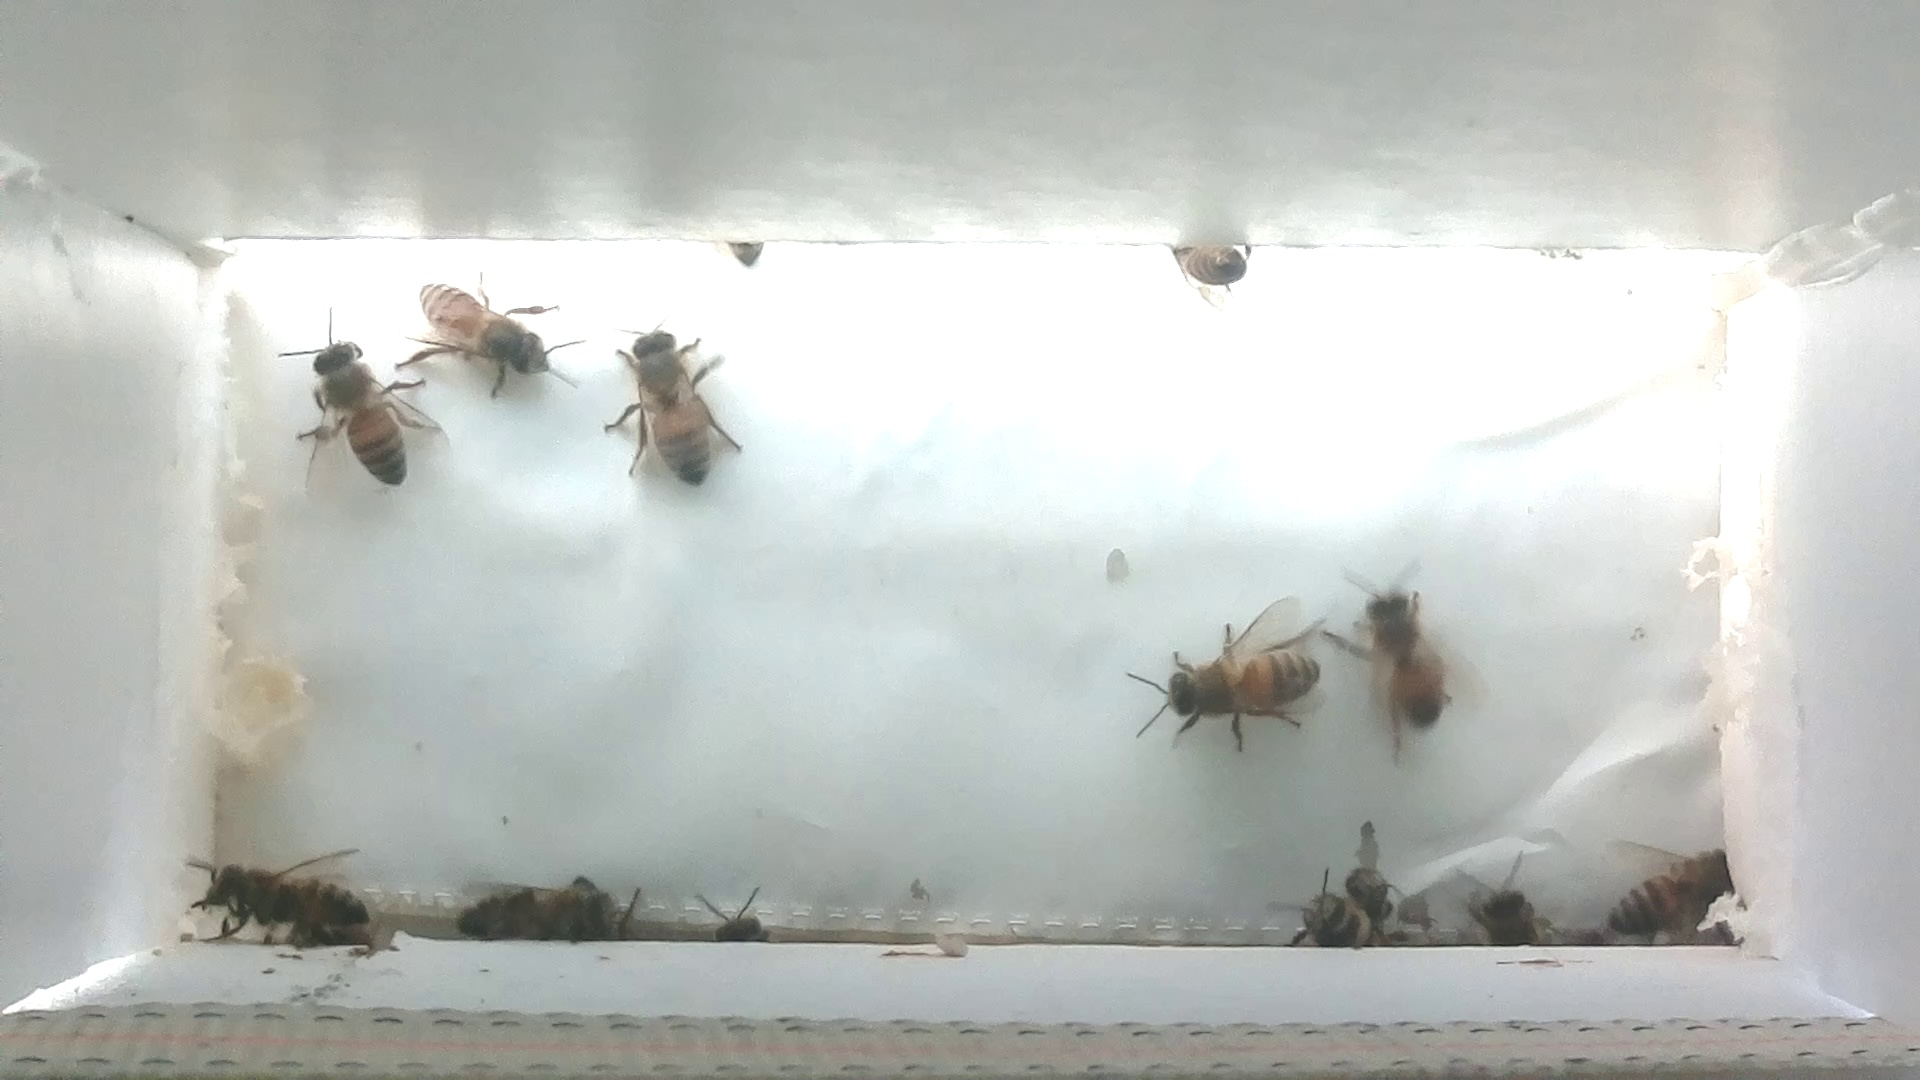bee: (1113, 608, 1333, 769), (588, 313, 758, 498), (1325, 570, 1480, 773), (273, 315, 440, 495), (388, 268, 576, 407), (178, 843, 380, 957), (1593, 825, 1749, 949), (444, 869, 636, 959), (1453, 858, 1557, 968), (1153, 233, 1269, 320), (1275, 876, 1378, 968), (694, 889, 781, 953)
